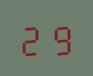nine: (46, 20, 72, 55)
two: (19, 20, 45, 56)
